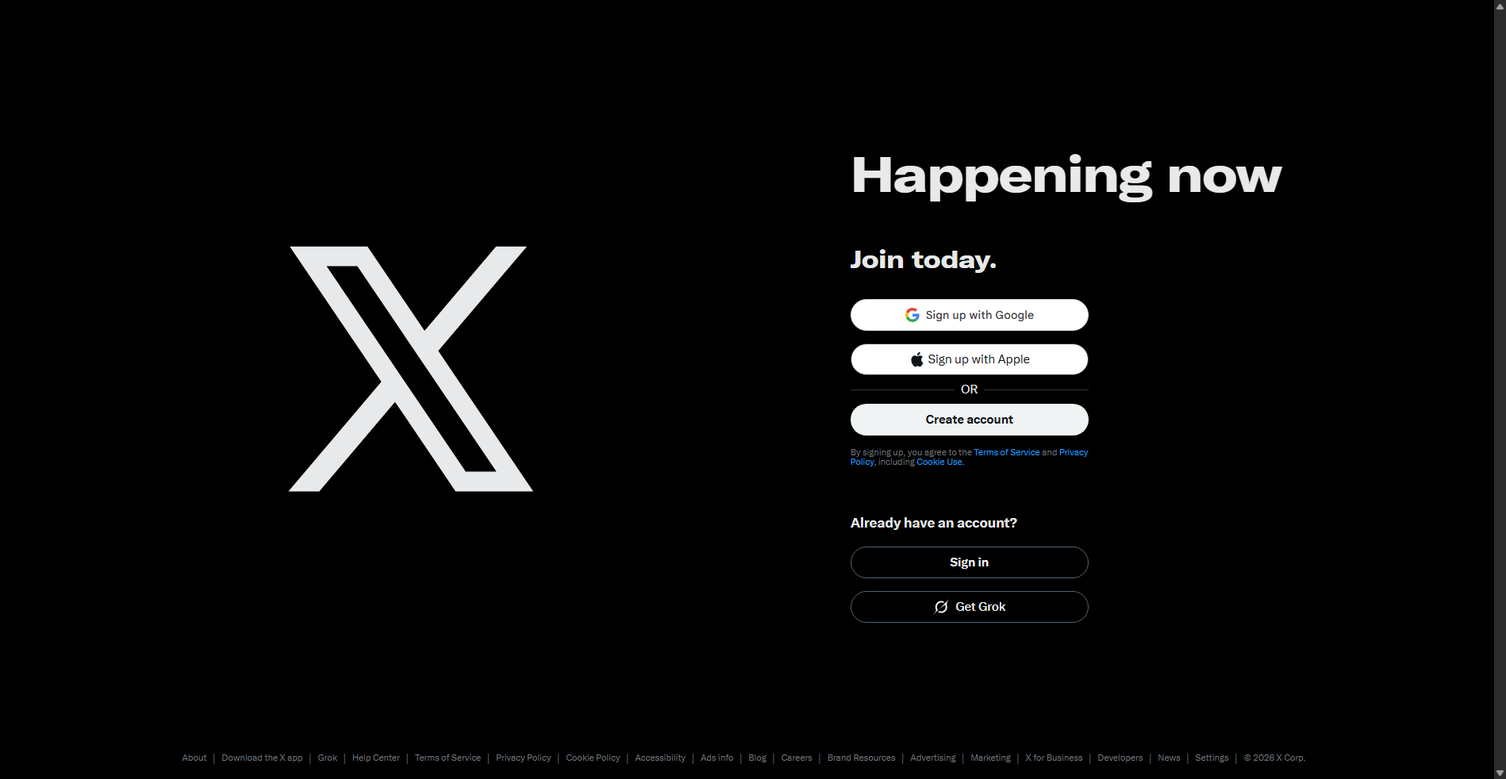button: (850, 404, 1088, 436), (850, 591, 1088, 623), (850, 547, 1088, 578), (850, 447, 1090, 467), (222, 754, 303, 763), (974, 447, 1040, 458), (827, 754, 895, 763), (415, 754, 481, 763), (1026, 754, 1083, 763), (496, 754, 551, 763), (566, 754, 620, 763), (917, 457, 965, 467), (635, 754, 686, 763), (352, 754, 400, 763), (910, 754, 956, 763), (1098, 754, 1143, 763), (971, 754, 1011, 763), (1195, 754, 1229, 763), (701, 754, 733, 763), (781, 754, 812, 763), (182, 754, 207, 763), (1158, 754, 1180, 763), (318, 754, 337, 763), (748, 754, 766, 763)
link: (850, 343, 1088, 375)
